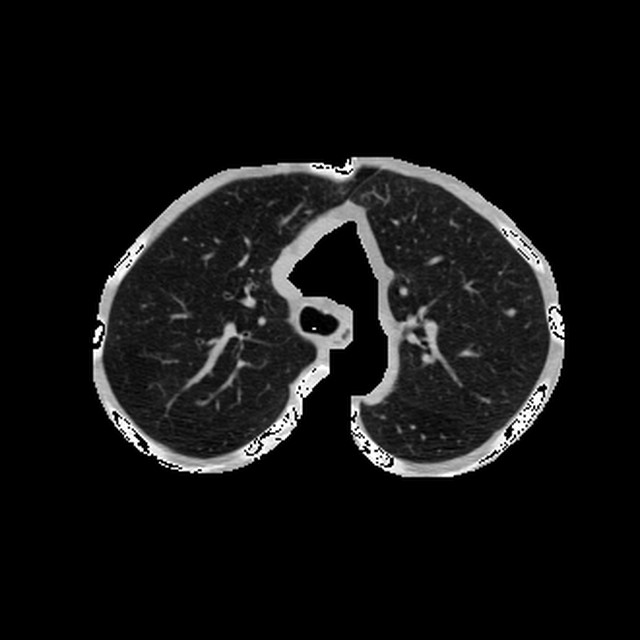PN: (508, 308, 516, 316)
